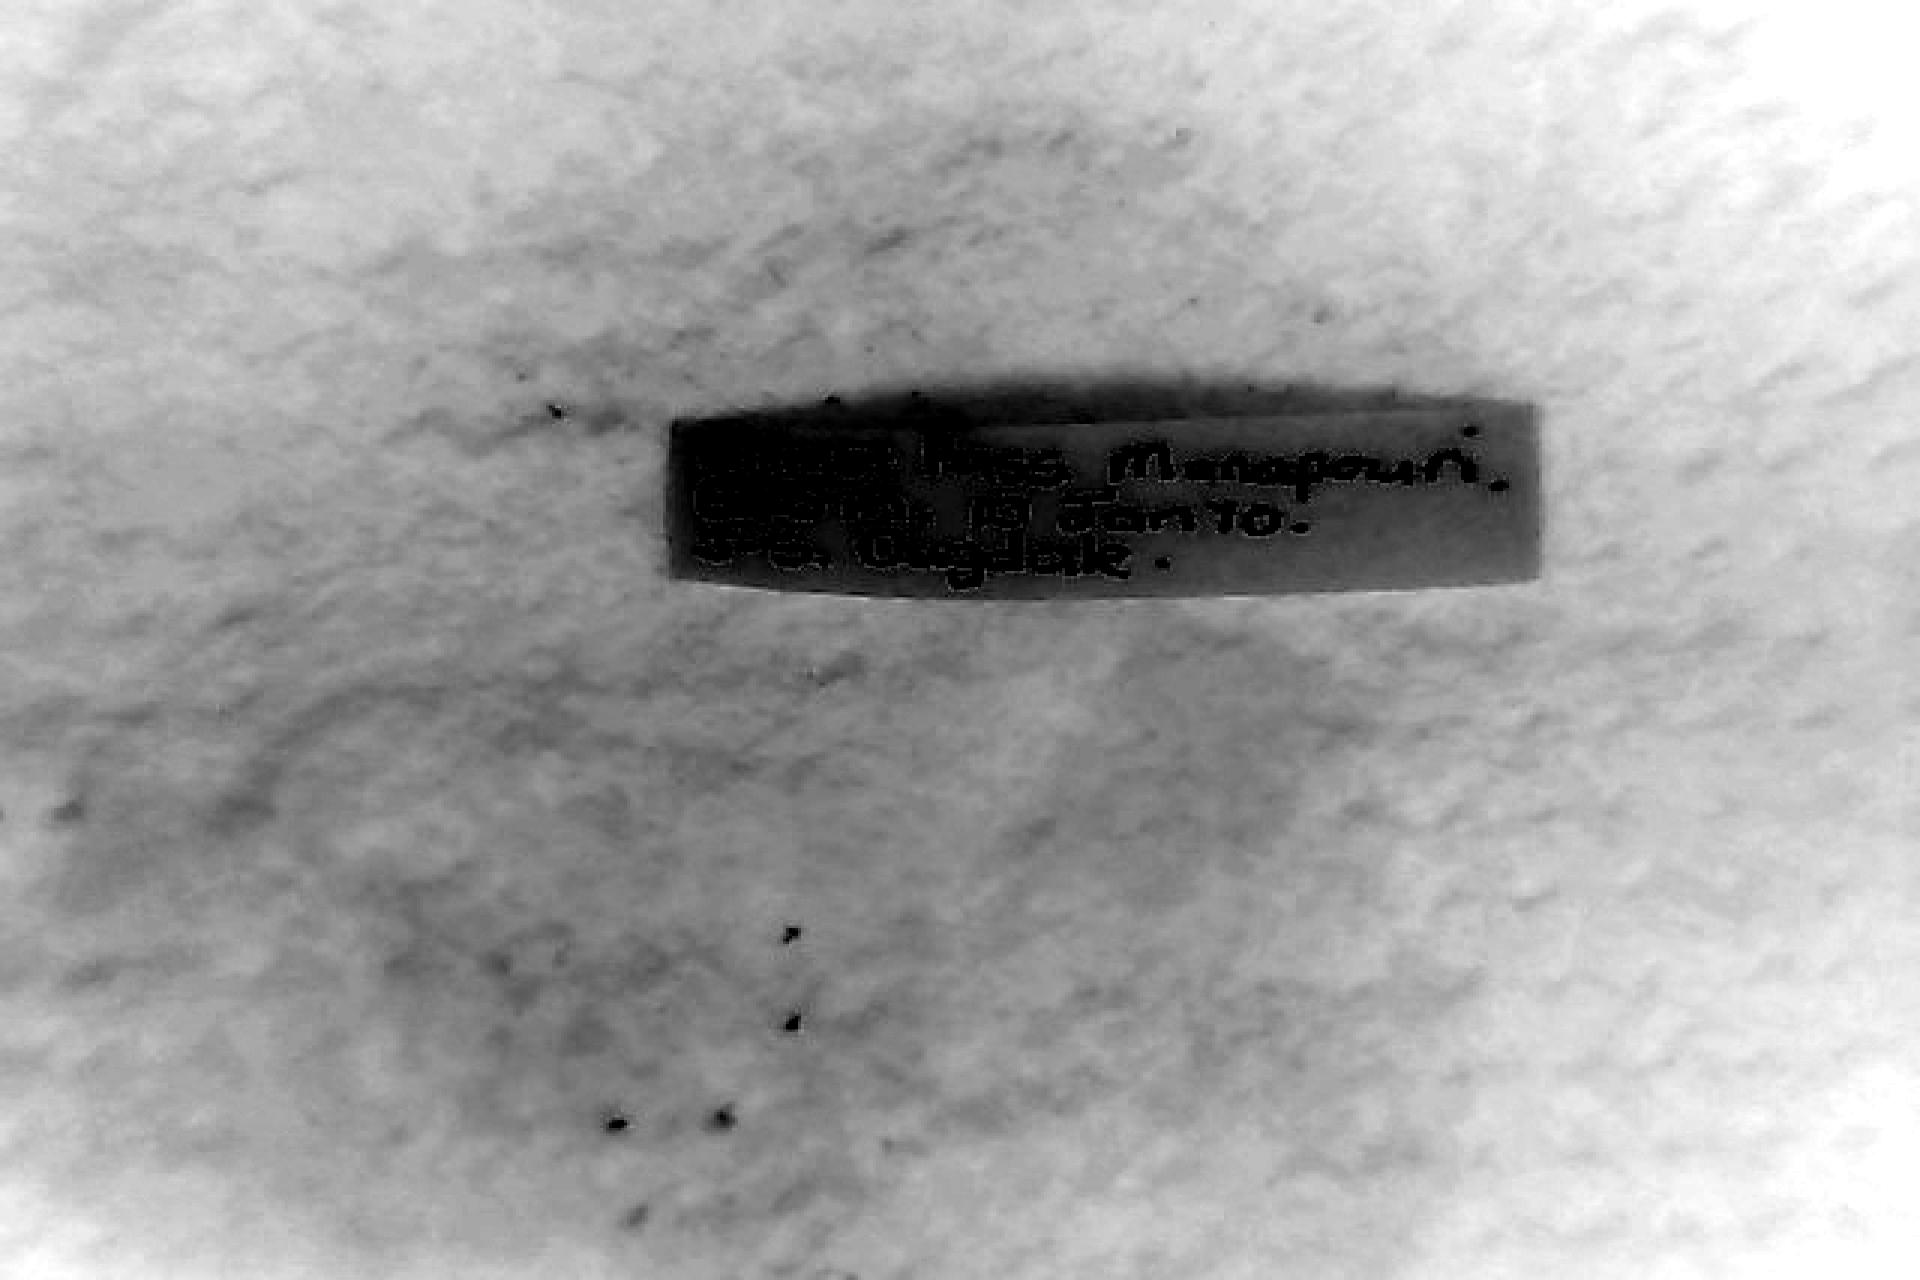hand_label: (667, 409, 1536, 597)
